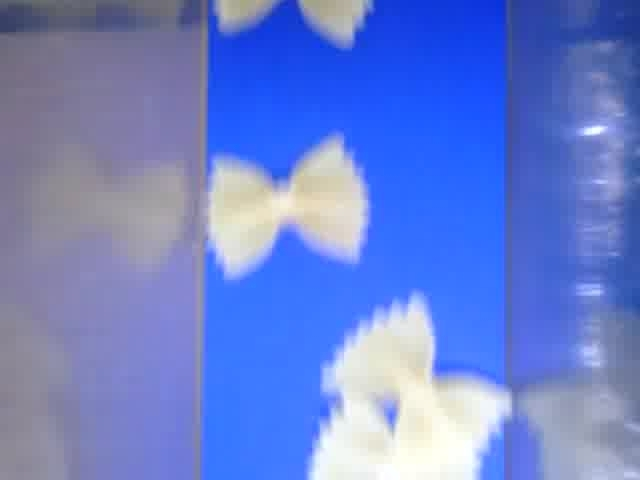farfalle: (326, 297, 511, 466), (205, 133, 371, 282), (308, 401, 468, 480)
